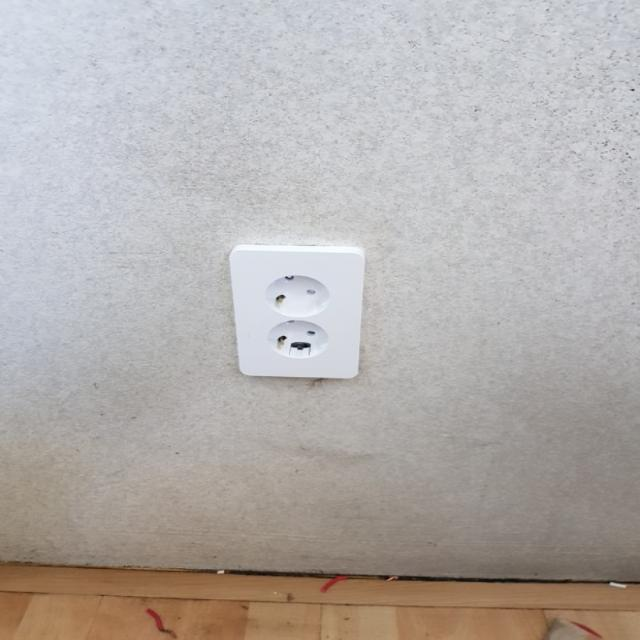typeb: (212, 233, 394, 389)
